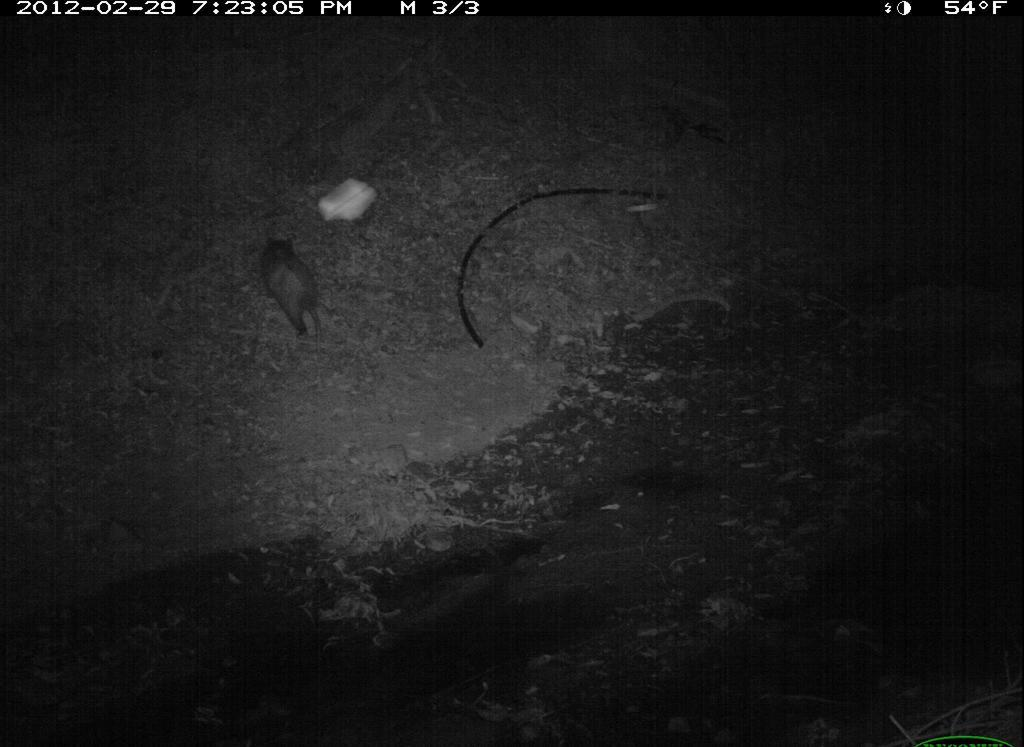opossum: (244, 221, 356, 354)
